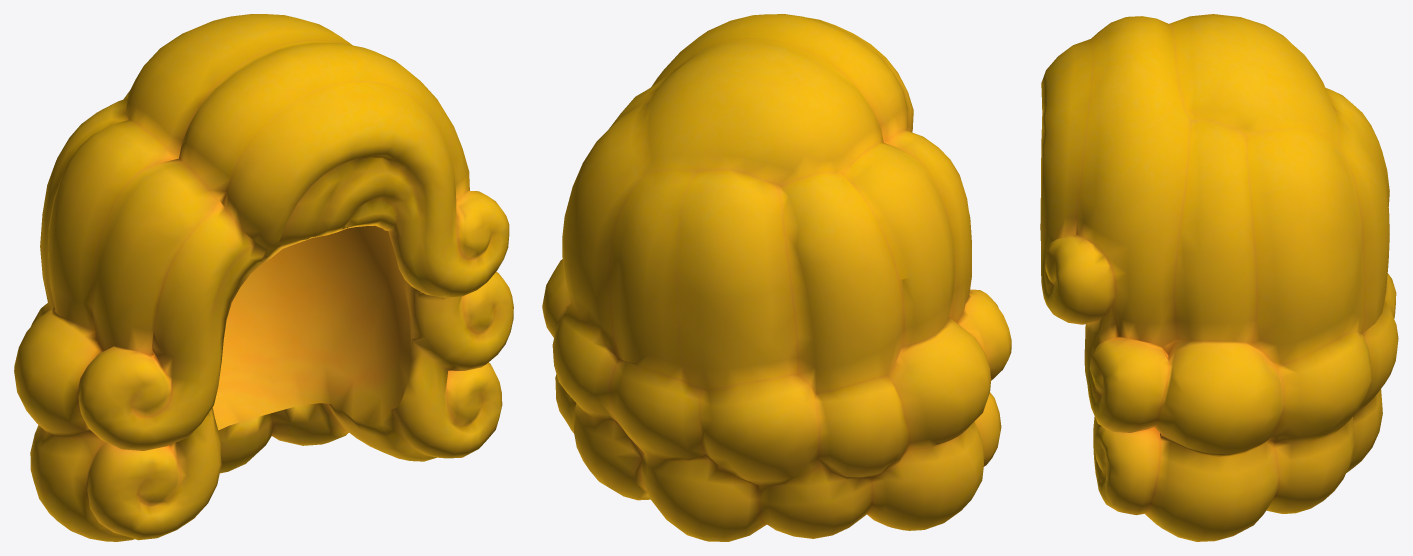
Rendered from hat_wig.glb.
3 views of the same model, side by side, from view 1: azimuth 30°, elevation 25°; view 2: azimuth 150°, elevation 25°; view 3: azimuth 270°, elevation 25° (orthographic). The views are drawn at different scales.
Parts seen in each view (by area): view 1: geometry_0; view 2: geometry_0; view 3: geometry_0.
Boxes of the visible parts, x1=… form: geometry_0: x1=14, y1=14, x2=513, y2=541; geometry_0: x1=542, y1=14, x2=1011, y2=541; geometry_0: x1=1040, y1=14, x2=1398, y2=541.
Size of the model in its own units: 0.9492 by 0.9521 by 0.6821.
Materials: 1 (1 with a texture image).
